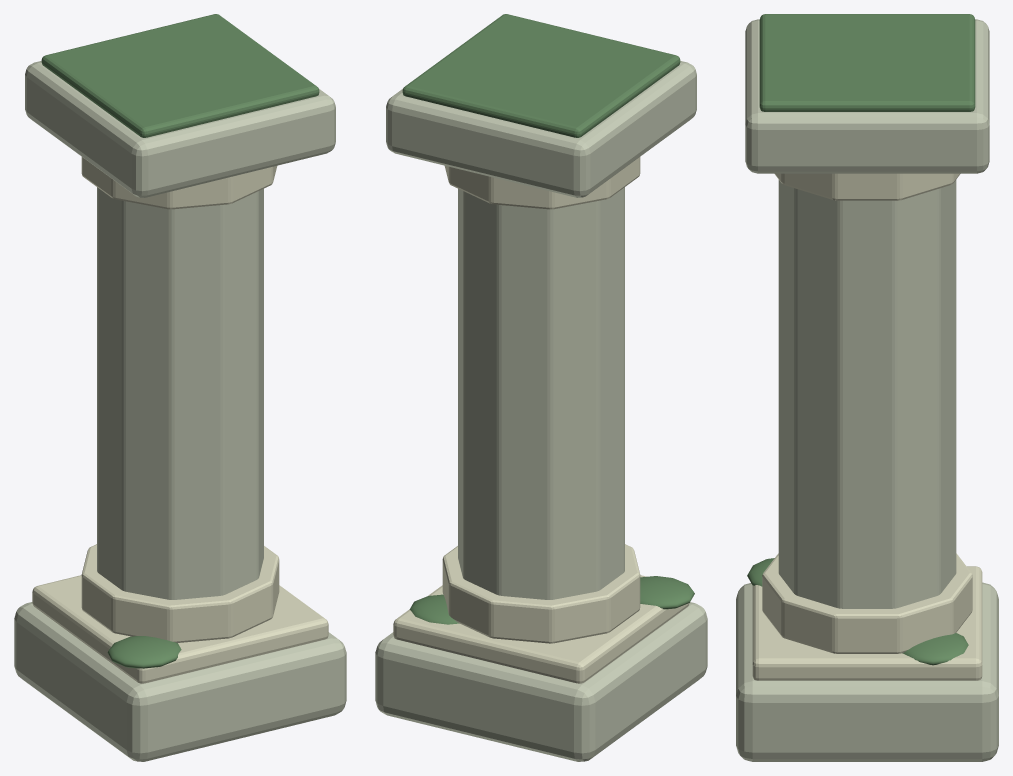
File: RuinColumn.fbx
The picture shows the model from 3 angles, left to right: view 1: azimuth 30°, elevation 25°; view 2: azimuth 150°, elevation 25°; view 3: azimuth 270°, elevation 25°; orthographic projection. The views are drawn at different scales.
Parts seen in each view (by area): view 1: ColumnShaft, ColumnPlinth, MossCap, ColumnCapital, ColumnBand, PlinthLip, ColumnBand.001, MossLichen; view 2: ColumnShaft, ColumnPlinth, MossCap, ColumnCapital, ColumnBand, PlinthLip, ColumnBand.001, MossLichen, MossLichen.001; view 3: ColumnShaft, ColumnPlinth, MossCap, ColumnCapital, ColumnBand, PlinthLip, ColumnBand.001, MossLichen.001.
Part boxes in pixels (bbox=[...]): ColumnShaft: bbox=[97, 187, 263, 599]; ColumnPlinth: bbox=[14, 602, 346, 761]; MossCap: bbox=[41, 14, 319, 137]; ColumnCapital: bbox=[25, 61, 335, 197]; ColumnBand: bbox=[81, 544, 279, 642]; PlinthLip: bbox=[32, 575, 328, 683]; ColumnBand.001: bbox=[81, 157, 277, 209]; MossLichen: bbox=[107, 636, 181, 668]; ColumnShaft: bbox=[458, 187, 624, 599]; ColumnPlinth: bbox=[375, 602, 707, 761]; MossCap: bbox=[402, 14, 680, 137]; ColumnCapital: bbox=[386, 61, 696, 197]; ColumnBand: bbox=[442, 544, 640, 643]; PlinthLip: bbox=[393, 575, 689, 683]; ColumnBand.001: bbox=[444, 157, 640, 209]; MossLichen: bbox=[640, 576, 694, 609]; MossLichen.001: bbox=[409, 594, 459, 624]; ColumnShaft: bbox=[778, 180, 956, 608]; ColumnPlinth: bbox=[736, 582, 998, 761]; MossCap: bbox=[759, 14, 975, 111]; ColumnCapital: bbox=[745, 19, 989, 173]; ColumnBand: bbox=[762, 553, 972, 653]; PlinthLip: bbox=[752, 566, 982, 680]; ColumnBand.001: bbox=[774, 173, 960, 200]; MossLichen.001: bbox=[902, 633, 968, 665].
Size of the model in its own units: 0.72 by 1.98 by 0.72.
